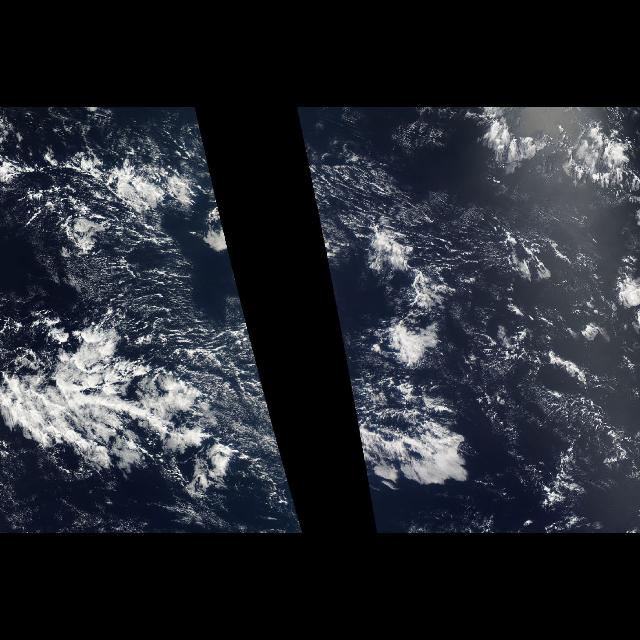Gravel: (315, 135, 607, 403), (116, 230, 194, 302)
Sugar: (28, 197, 235, 346), (336, 173, 572, 297), (462, 344, 630, 490), (150, 354, 282, 464)
